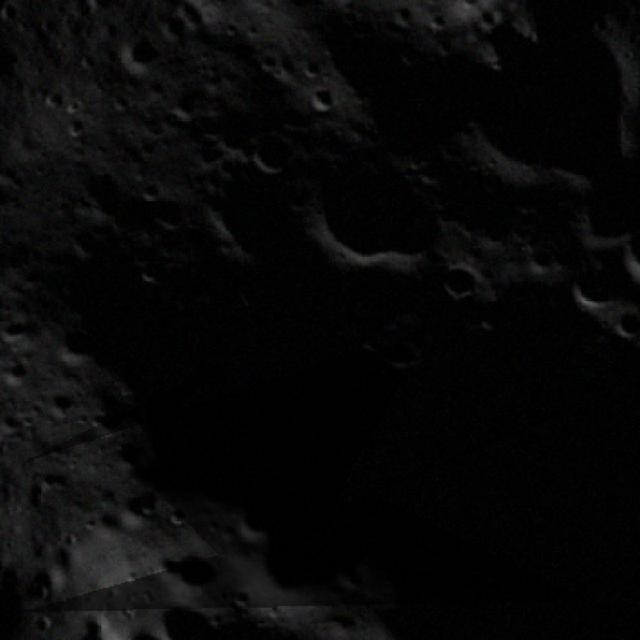crater: (277, 117, 468, 306), (155, 536, 222, 602), (426, 250, 491, 312), (151, 587, 226, 640), (41, 312, 105, 374), (560, 262, 623, 324), (234, 121, 294, 181), (28, 372, 84, 428), (115, 477, 171, 532), (77, 394, 128, 446), (377, 332, 431, 381), (142, 188, 190, 240), (609, 219, 640, 299), (471, 198, 520, 248), (60, 222, 111, 270), (116, 42, 167, 88), (348, 317, 395, 361), (162, 85, 206, 129), (328, 555, 372, 599), (601, 303, 640, 352), (0, 348, 38, 397), (302, 79, 342, 121), (127, 254, 167, 294), (522, 242, 560, 278), (292, 50, 328, 85), (165, 287, 200, 322), (161, 16, 197, 49), (0, 267, 17, 335), (385, 0, 419, 32), (102, 88, 136, 120), (252, 45, 285, 77), (422, 9, 450, 37), (216, 18, 244, 44), (0, 174, 17, 214), (446, 0, 478, 15), (65, 101, 86, 119), (33, 124, 52, 139)
